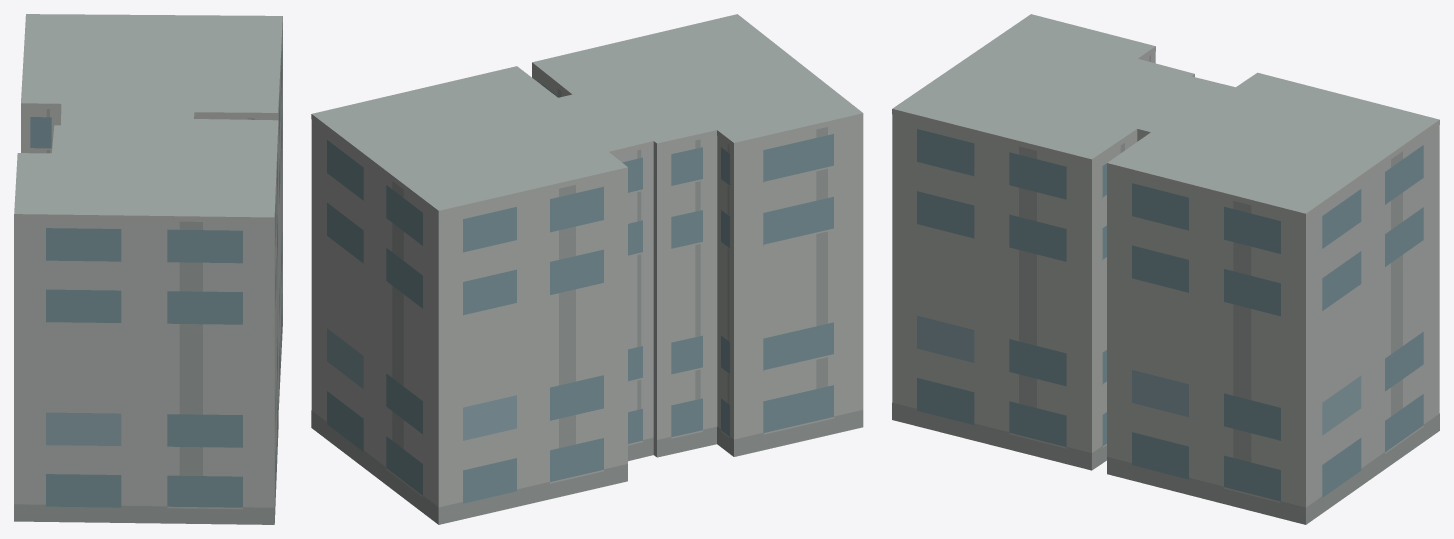
The model's file is survey-upis-32692661.glb.
3 renders of one model, left to right at view 1: azimuth 30°, elevation 25°; view 2: azimuth 150°, elevation 25°; view 3: azimuth 270°, elevation 25°, orthographic. The views are drawn at different scales.
Visible parts, largest first — view 1: survey-upis-32692661.tmp; view 2: survey-upis-32692661.tmp; view 3: survey-upis-32692661.tmp.
Boxes of the visible parts, <box> form: survey-upis-32692661.tmp: <box>14,14,282,524</box>; survey-upis-32692661.tmp: <box>311,14,863,524</box>; survey-upis-32692661.tmp: <box>892,14,1439,524</box>.
Size of the model in its own units: 19.01 by 13.8 by 22.02.
